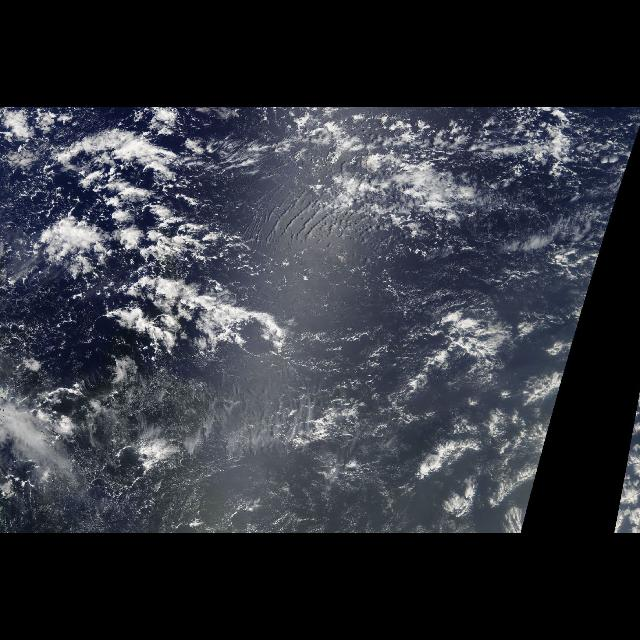Gravel: (5, 120, 114, 342)
Sugar: (25, 358, 449, 532)
